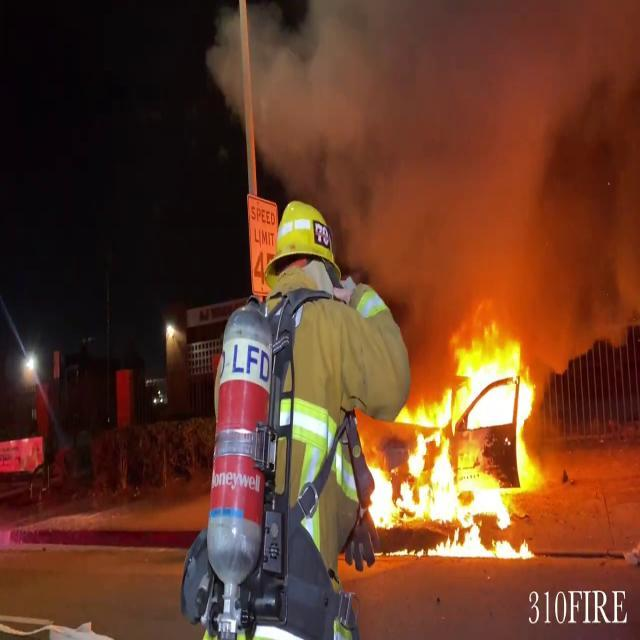Fire: (368, 320, 546, 558)
Smoke: (250, 0, 639, 332)
